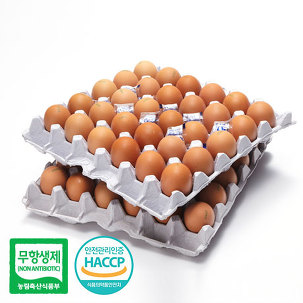egg: (44, 60, 276, 193), (41, 157, 248, 232)
